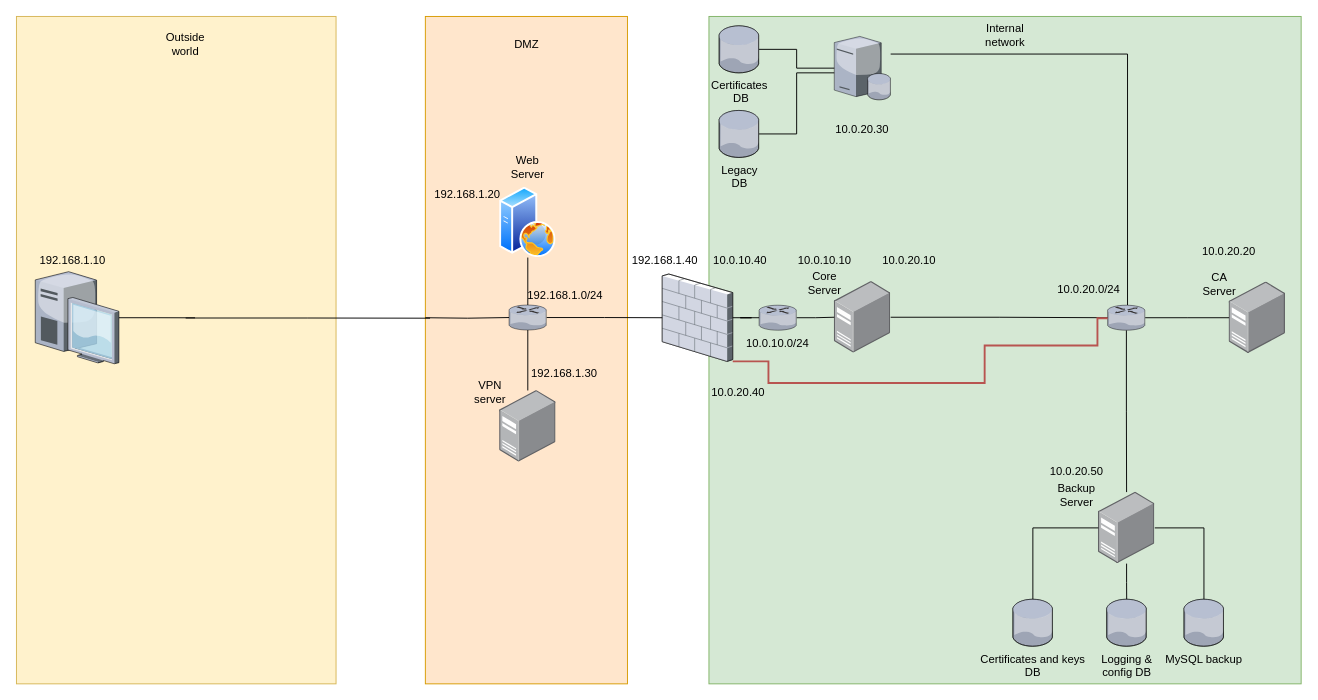
Some shapes in this 1318 by 700 pixel diagram are drawn without their labels. The shapes that lost their labels are listed below. From the top down, each one's box as (x1, y1, x2, y2) in pixels, then its label:
(834, 36, 890, 99): MySQL Server
(35, 271, 118, 363): Client
(662, 274, 732, 361): Internal Firewall
